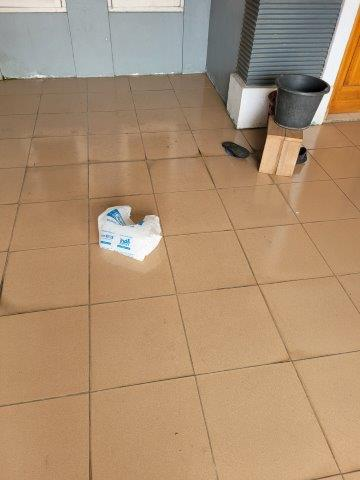plastik: (96, 204, 163, 263)
